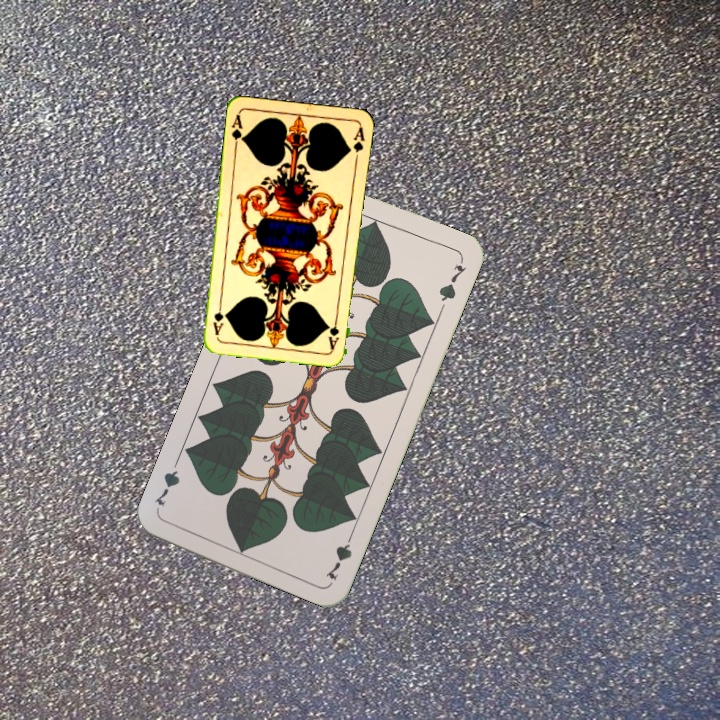G7: (321, 527, 357, 584)
GA: (228, 110, 247, 151), (326, 311, 342, 351)
